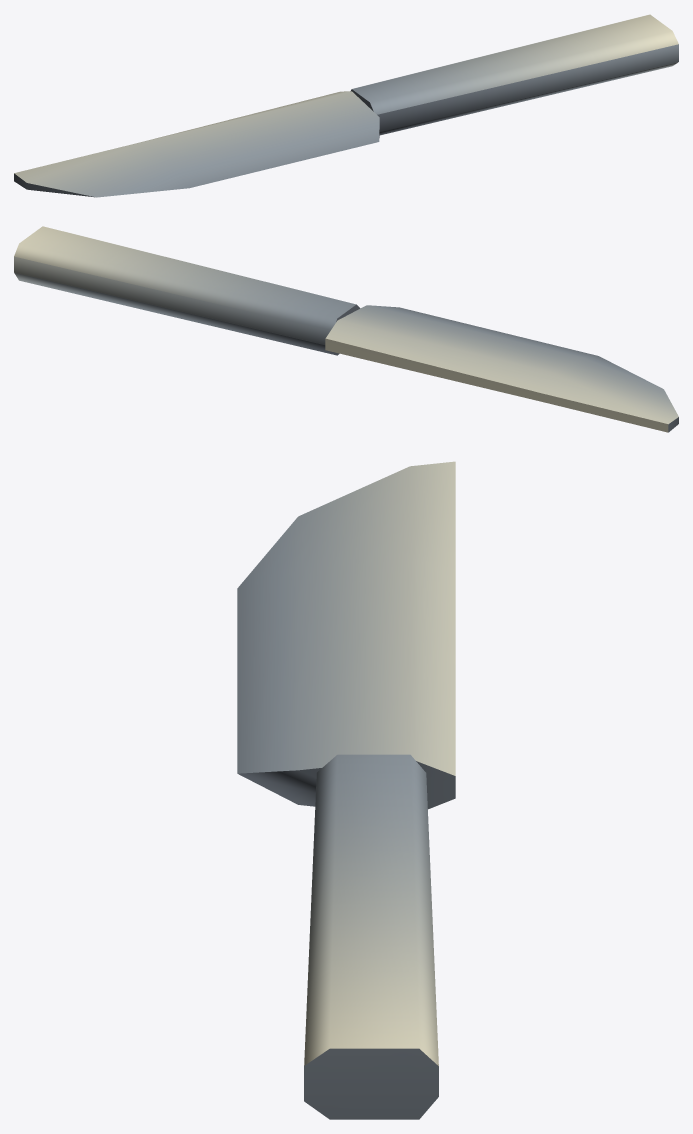
The model's file is knife_cuttlery_silver.fbx.
3 renders of one model, top to bottom at view 1: azimuth 30°, elevation 25°; view 2: azimuth 150°, elevation 25°; view 3: azimuth 270°, elevation 25°, orthographic. The views are drawn at different scales.
Visible parts, largest first — view 1: knife_cuttlery_silver; view 2: knife_cuttlery_silver; view 3: knife_cuttlery_silver.
Boxes of the visible parts, bbox=[...] form: knife_cuttlery_silver: bbox=[14, 14, 678, 197]; knife_cuttlery_silver: bbox=[14, 226, 678, 432]; knife_cuttlery_silver: bbox=[237, 461, 455, 1119].
Size of the model in its own units: 43.25 by 2.35 by 6.53.
